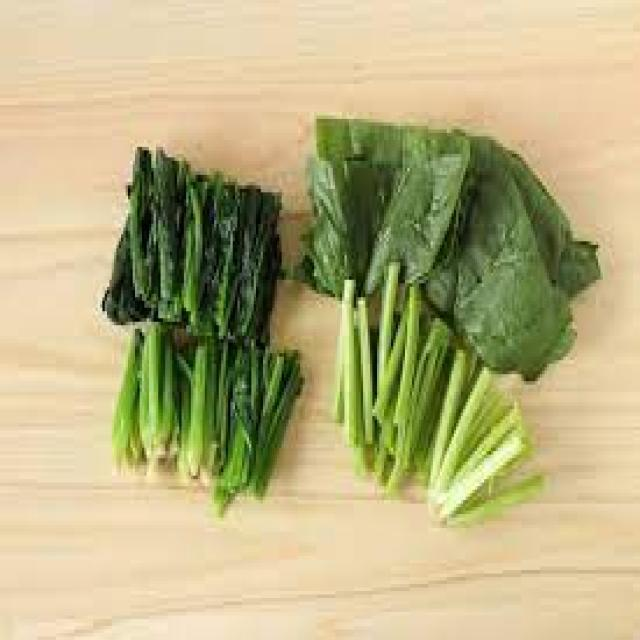Wet Waste: (272, 98, 612, 536), (92, 136, 305, 523)
